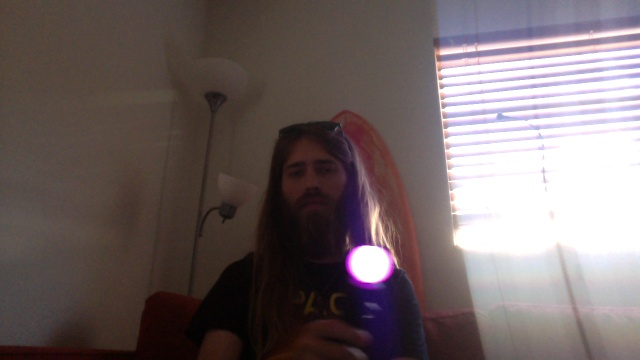wand: (347, 245, 393, 283)
